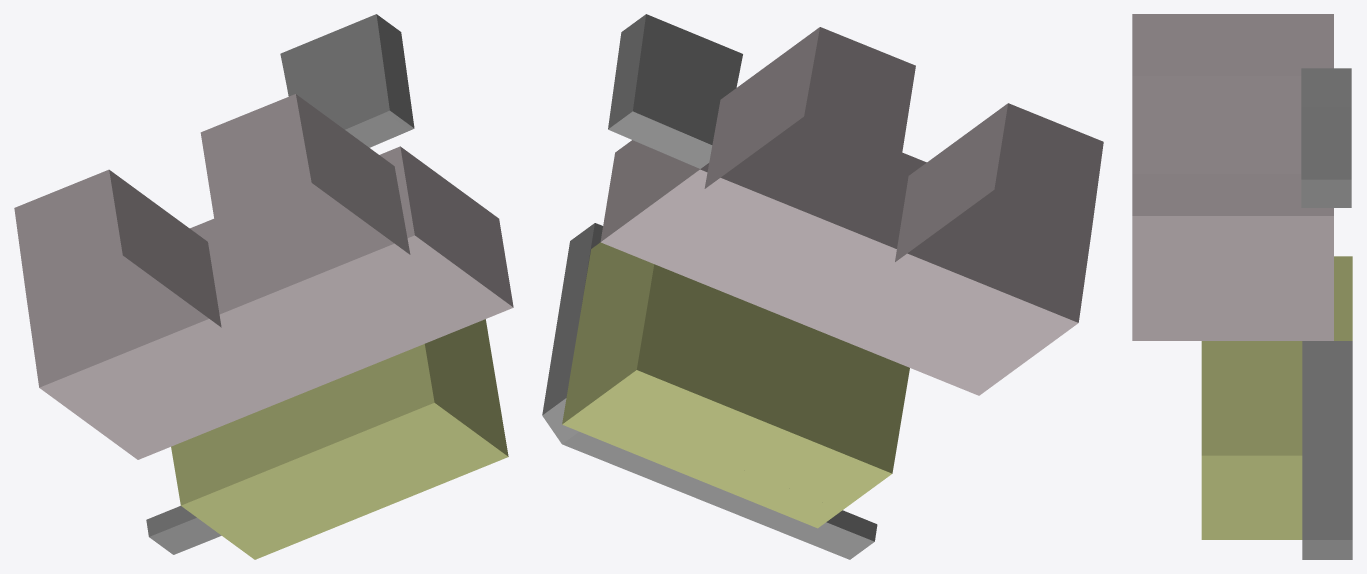
3 renders of one model, left to right at view 1: azimuth 30°, elevation 25°; view 2: azimuth 150°, elevation 25°; view 3: azimuth 270°, elevation 25°, orthographic.
Visible parts, largest first — view 1: 0_1_2_0_3_1_3_1_2; view 2: 0_1_2_0_3_1_3_1_2; view 3: 0_1_2_0_3_1_3_1_2.
Part boxes in pixels (x1,y1,x2,y2): 0_1_2_0_3_1_3_1_2: [14, 14, 513, 559]; 0_1_2_0_3_1_3_1_2: [542, 14, 1103, 559]; 0_1_2_0_3_1_3_1_2: [1132, 14, 1352, 559].
Size of the model in its own units: 31.49 by 31.35 by 13.12.
